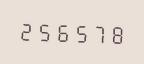eight: (108, 21, 125, 45)
five: (35, 18, 52, 43), (72, 20, 89, 44)
seven: (90, 20, 107, 45)
six: (54, 19, 71, 43)
two: (17, 18, 34, 42)
